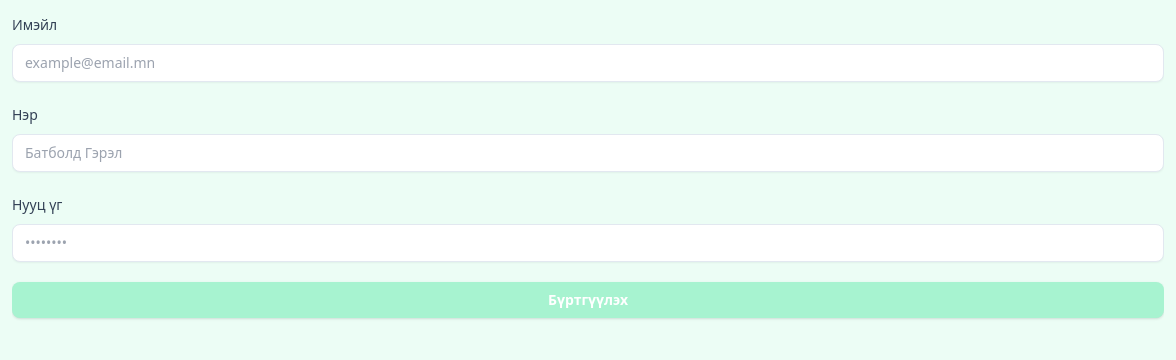
Test: SignUpForm › shows validation feedback for invalid inputs
Type "bad-email" into the field labelled "Имэйл" at (588, 63), box [12,44,1164,82]
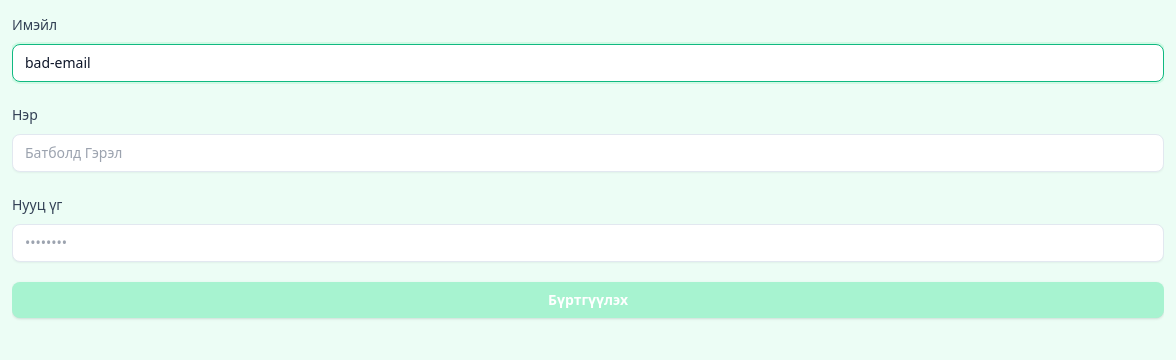
Press Tab
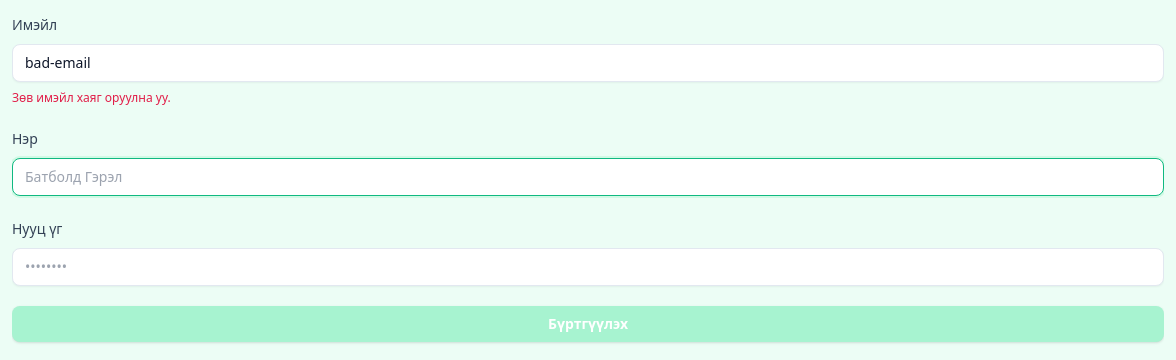
Now the text "Зөв имэйл хаяг оруулна уу." is shown, box [12,89,171,106]
